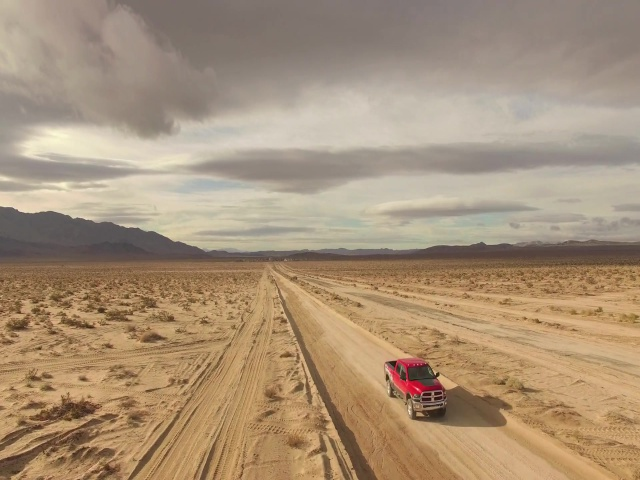vehicle: (382, 357, 448, 420)
